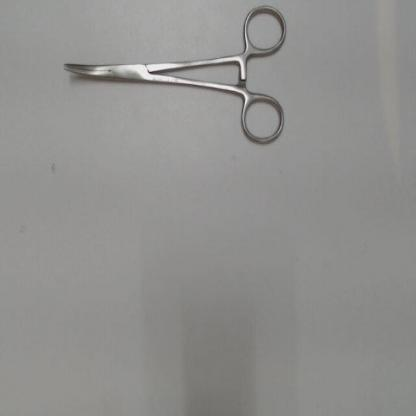Crile Artery Forceps: (57, 3, 296, 154)
